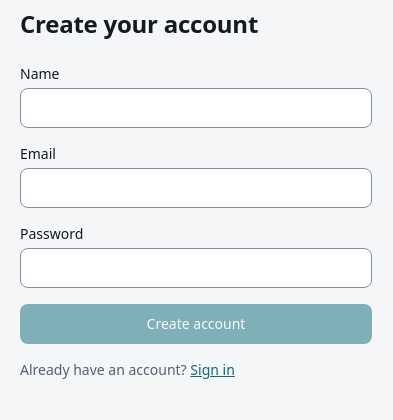
Test: RegisterPage › enforces the password policy (10+ characters, a letter, a digit) before enabling submit
Type "Ada" into the field labelled "Name".
click(196, 108); type("Ada")  # box [20,88,372,128]
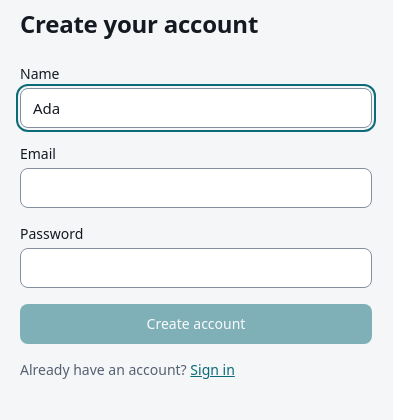
Type "ada@x.test" into the field labelled "Email".
click(196, 188); type("ada@x.test")  # box [20,168,372,208]
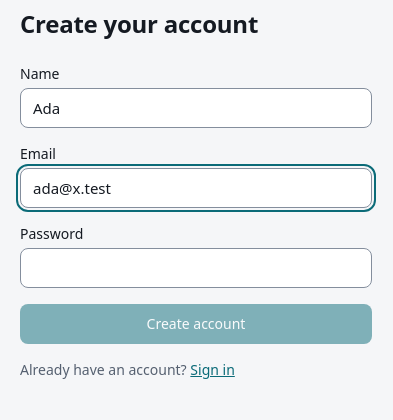
Type "short1" into the password field labelled "Password".
click(196, 268); type("short1")  # box [20,248,372,288]
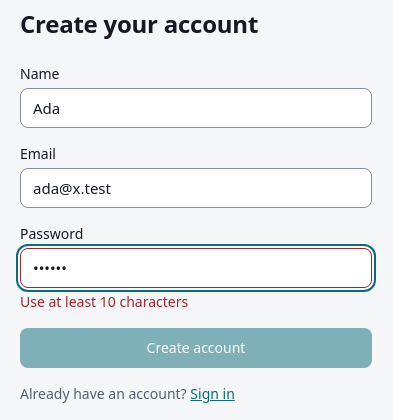
Expected: the button "Create account" is disabled, [20,328,372,368]
Result: the text "Use at least 10 characters" is shown at [20,292,188,311]
